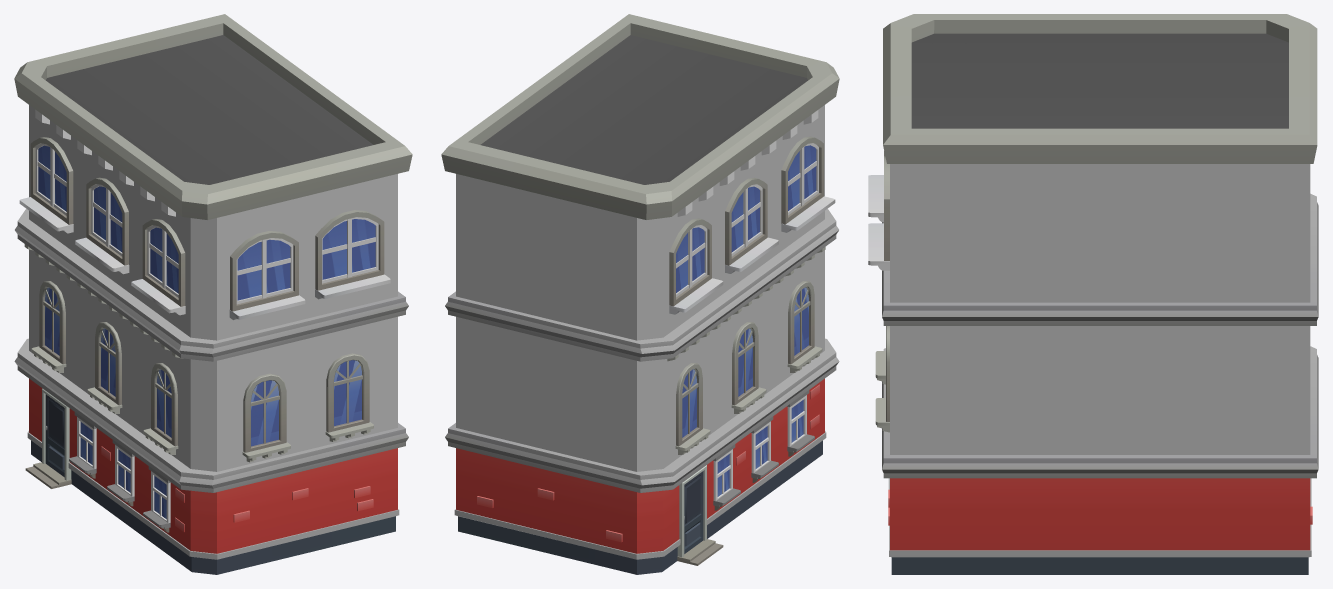
Rendered from Building_18_3_N.fbx.
3 views of the same model, side by side, from view 1: azimuth 30°, elevation 25°; view 2: azimuth 150°, elevation 25°; view 3: azimuth 270°, elevation 25° (orthographic). The views are drawn at different scales.
Visible parts, largest first — view 1: Building_18_3_N; view 2: Building_18_3_N; view 3: Building_18_3_N.
Boxes of the visible parts, x1=… form: Building_18_3_N: x1=14, y1=14, x2=412, y2=574; Building_18_3_N: x1=441, y1=14, x2=839, y2=574; Building_18_3_N: x1=868, y1=14, x2=1318, y2=574.
Size of the model in its own units: 719 by 1156 by 1059.
